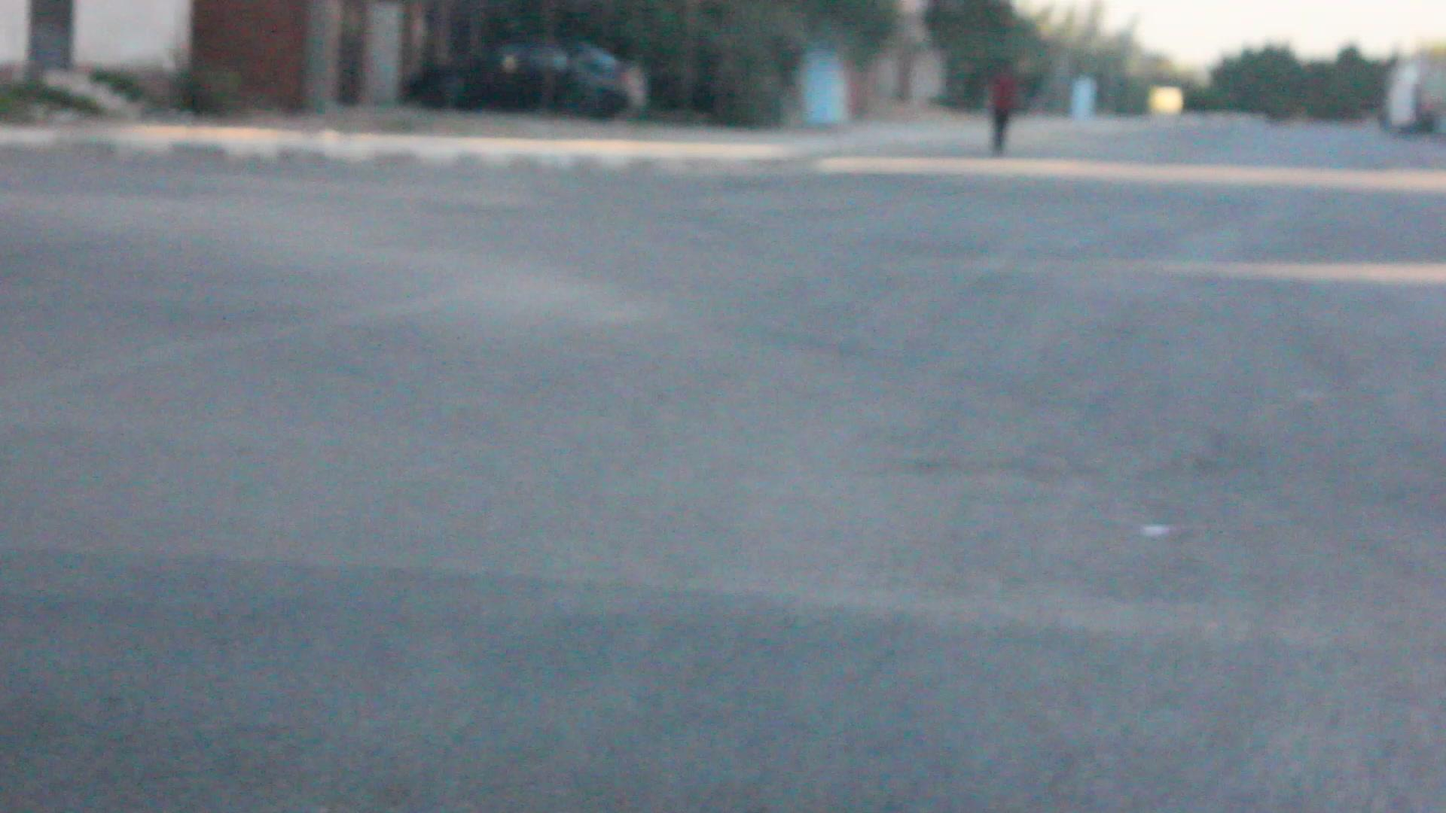Bump: (0, 553, 1446, 813)
